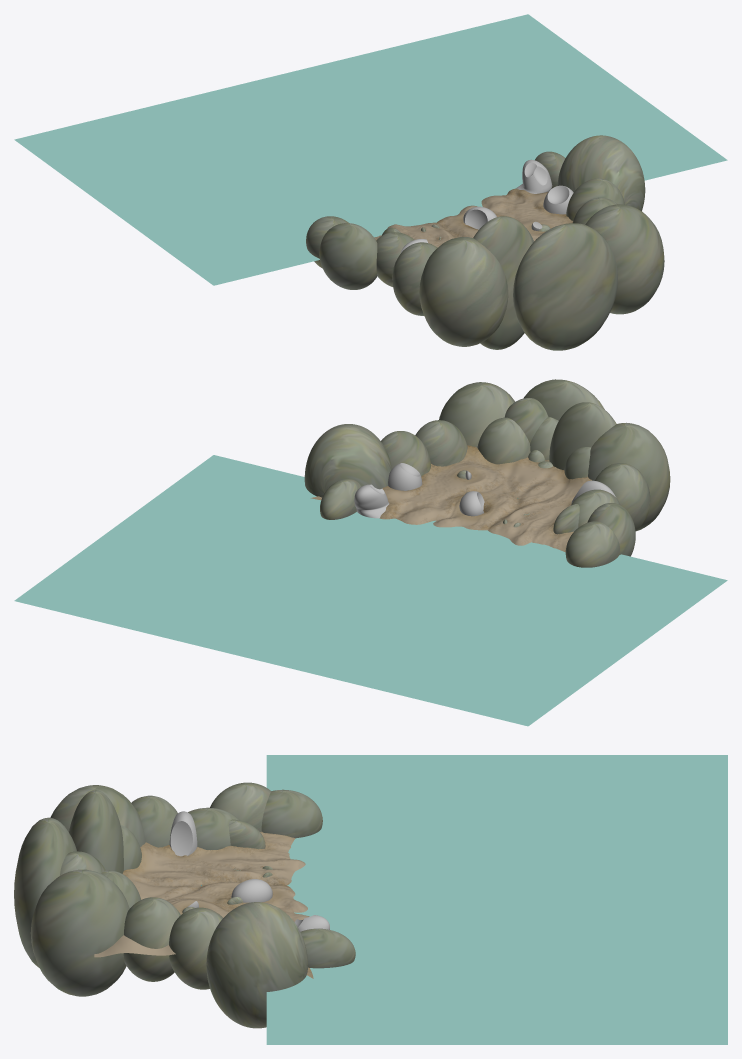
File: BeachConcept-03.fbx
3 renders of one model, top to bottom at view 1: azimuth 30°, elevation 25°; view 2: azimuth 150°, elevation 25°; view 3: azimuth 270°, elevation 25°, orthographic. The views are drawn at different scales.
Parts seen in each view (by area): view 1: Ocean, rock, rock2, rock4, rock16, beach, rock1, rock10, rock6, rock7, rock15, rock18 (+4 smaller); view 2: Ocean, beach, rock16, rock2, rock4, rock1, rock11, rock6, rock5, rock14, rock, rock15 (+9 smaller); view 3: Ocean, beach, rock4, rock16, rock, rock14, rock1, rock15, rock11, rock2, rock17, rock10 (+8 smaller).
Boxes of the visible parts, x1,y1,x2,y2 form: Ocean: (14,14,727,285); rock: (513,223,617,350); rock2: (419,237,508,346); rock4: (585,204,664,314); rock16: (557,135,645,211); beach: (374,188,572,247); rock1: (473,216,533,349); rock10: (319,223,377,289); rock6: (392,242,437,315); rock7: (376,232,414,286); rock15: (566,178,624,220); rock18: (516,159,552,193); Ocean: (14,455,727,726); beach: (310,445,591,552); rock16: (304,424,391,497); rock2: (588,422,670,531); rock4: (439,382,514,447); rock1: (549,402,616,469); rock11: (565,521,619,567); rock6: (595,463,650,531); rock5: (477,417,530,464); rock14: (415,420,467,466); rock: (523,379,604,420); rock15: (381,431,431,476); Ocean: (266,755,727,1044); beach: (94,831,313,978); rock4: (30,869,129,996); rock16: (206,902,307,1028); rock: (14,817,76,967); rock14: (123,897,180,981); rock1: (69,790,123,873); rock15: (169,907,222,989); rock11: (261,789,322,838); rock2: (50,785,145,846); rock17: (300,928,355,968); rock10: (210,782,270,831).
Bounding box in the file's own units: 16233 × 3958 × 16901.
